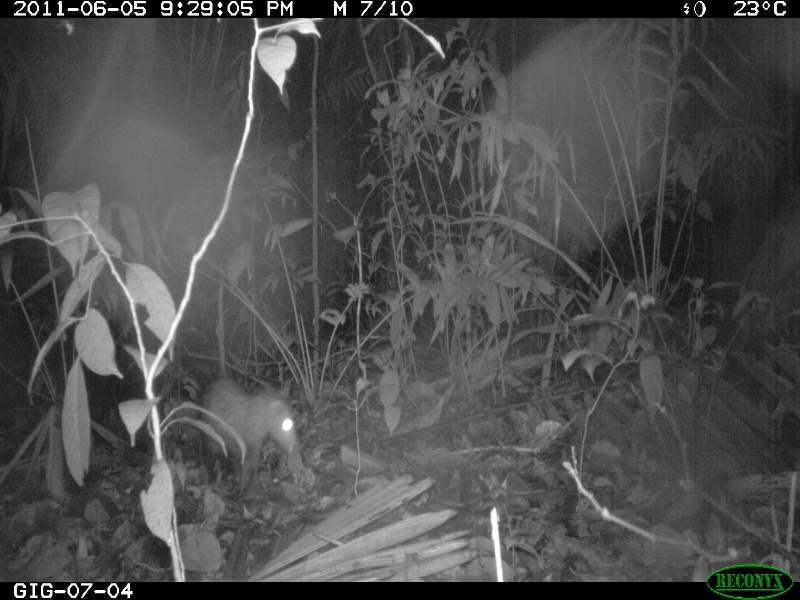opossum: (197, 378, 302, 468)
